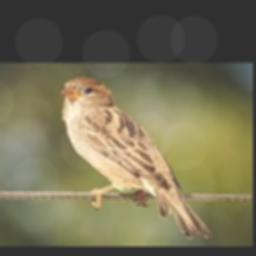Sparrow: (61, 76, 212, 239)
